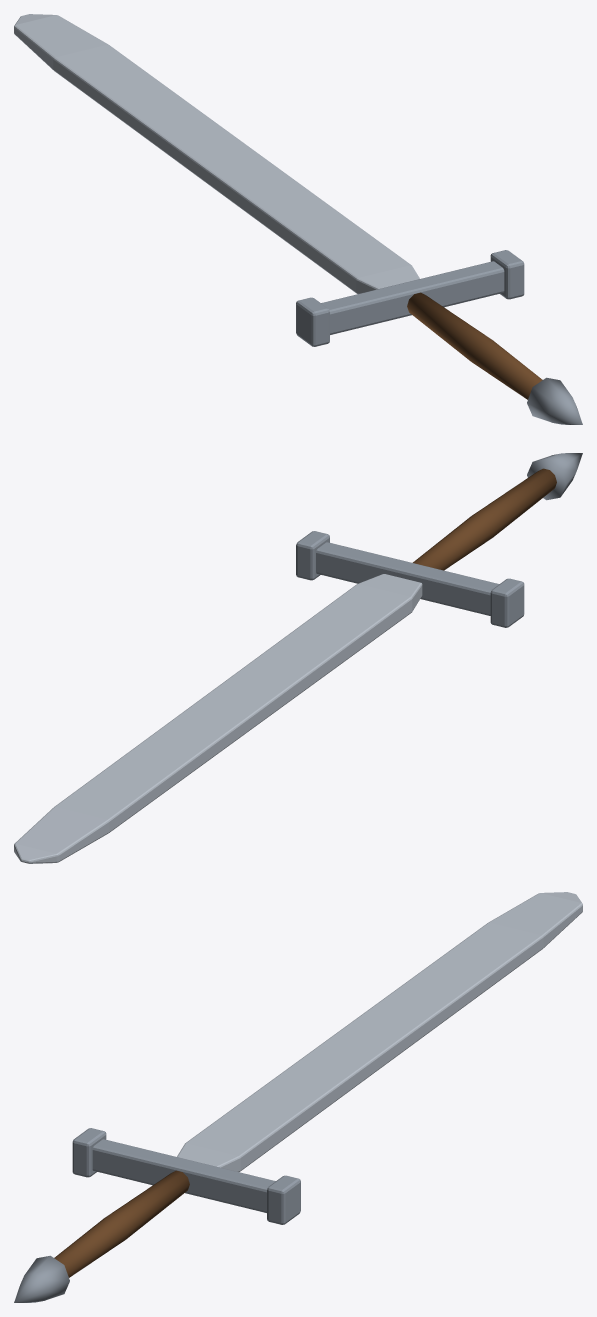
Rendered from greatsword_08_cleaver_steel.glb.
The picture shows the model from 3 angles, top to bottom: view 1: azimuth 30°, elevation 25°; view 2: azimuth 150°, elevation 25°; view 3: azimuth 330°, elevation 25°; orthographic projection.
Parts seen in each view (by area): view 1: 08_cleaver_steel_Blade, 08_cleaver_steel_Guard, 08_cleaver_steel_Grip, 08_cleaver_steel_Pommel; view 2: 08_cleaver_steel_Blade, 08_cleaver_steel_Guard, 08_cleaver_steel_Grip, 08_cleaver_steel_Pommel; view 3: 08_cleaver_steel_Blade, 08_cleaver_steel_Guard, 08_cleaver_steel_Grip, 08_cleaver_steel_Pommel.
Boxes of the visible parts, x1,y1,x2,y2 form: 08_cleaver_steel_Blade: [14, 14, 419, 293]; 08_cleaver_steel_Guard: [296, 250, 524, 346]; 08_cleaver_steel_Grip: [407, 292, 542, 399]; 08_cleaver_steel_Pommel: [527, 377, 582, 424]; 08_cleaver_steel_Blade: [14, 574, 422, 863]; 08_cleaver_steel_Guard: [296, 531, 524, 627]; 08_cleaver_steel_Grip: [412, 468, 556, 570]; 08_cleaver_steel_Pommel: [527, 453, 582, 500]; 08_cleaver_steel_Blade: [177, 892, 582, 1171]; 08_cleaver_steel_Guard: [72, 1128, 300, 1224]; 08_cleaver_steel_Grip: [54, 1170, 189, 1277]; 08_cleaver_steel_Pommel: [14, 1255, 69, 1302].
Size of the model in its own units: 0.303 by 0.056 by 1.38.
